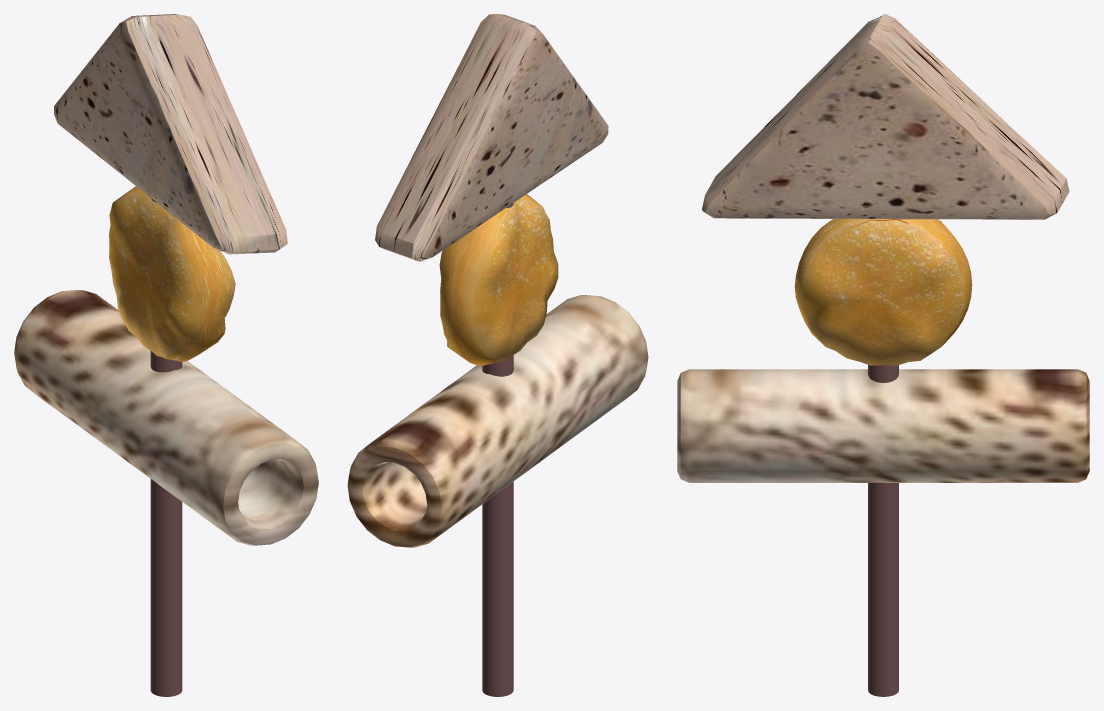
The model's file is O-DEN.fbx.
The picture shows the model from 3 angles, left to right: view 1: azimuth 30°, elevation 25°; view 2: azimuth 150°, elevation 25°; view 3: azimuth 270°, elevation 25°; orthographic projection. The views are drawn at different scales.
Visible parts, largest first — view 1: pCylinder6; view 2: pCylinder6; view 3: pCylinder6.
Part boxes in pixels (box(x1,y1,x2,y2)): pCylinder6: box(14, 14, 318, 696); pCylinder6: box(347, 14, 648, 696); pCylinder6: box(677, 14, 1089, 696).
Bounding box in the file's own units: 1.27 × 8.11 × 4.59.
Materials: 2 (1 with a texture image).
